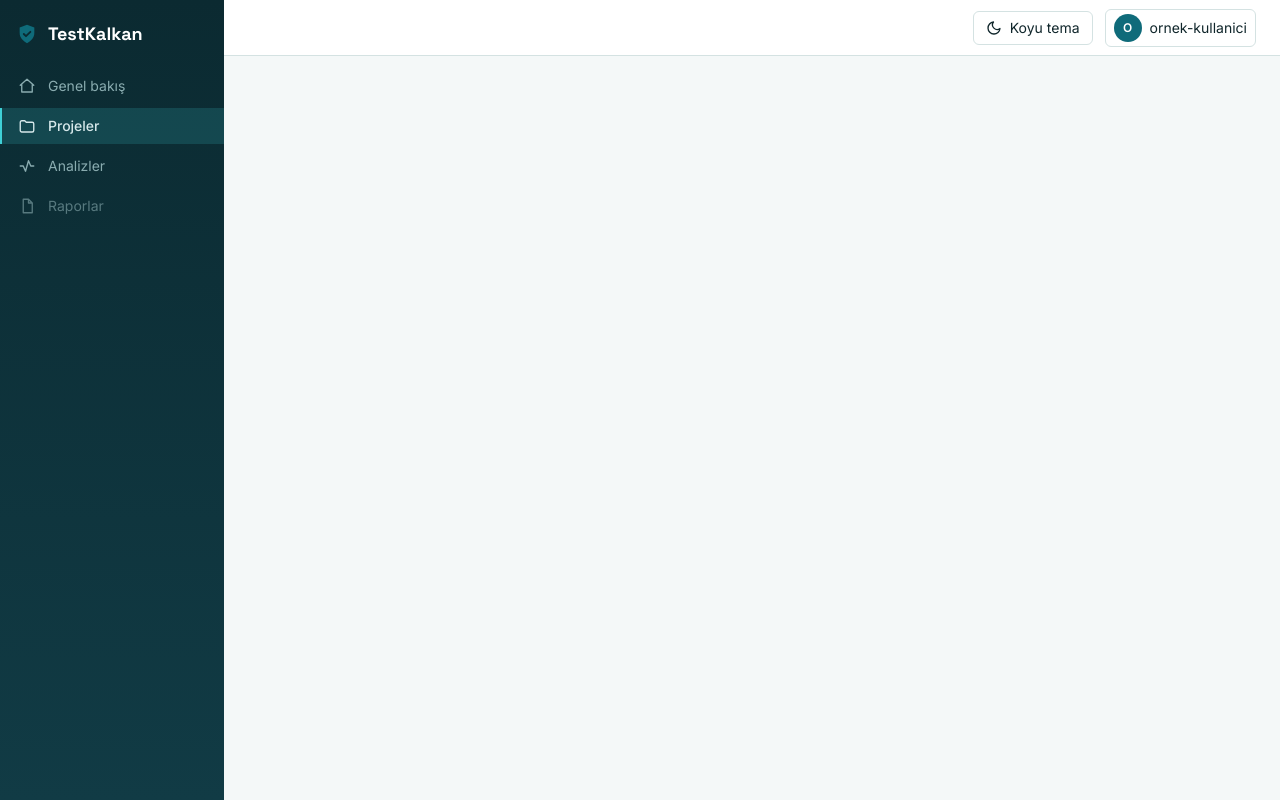
Test: kullanıcı menüsündeki Profil linki /profile açar
Click the button with aria-label "Kullanıcı menüsü". click: [1180, 28]
box: [1104,8,1256,46]
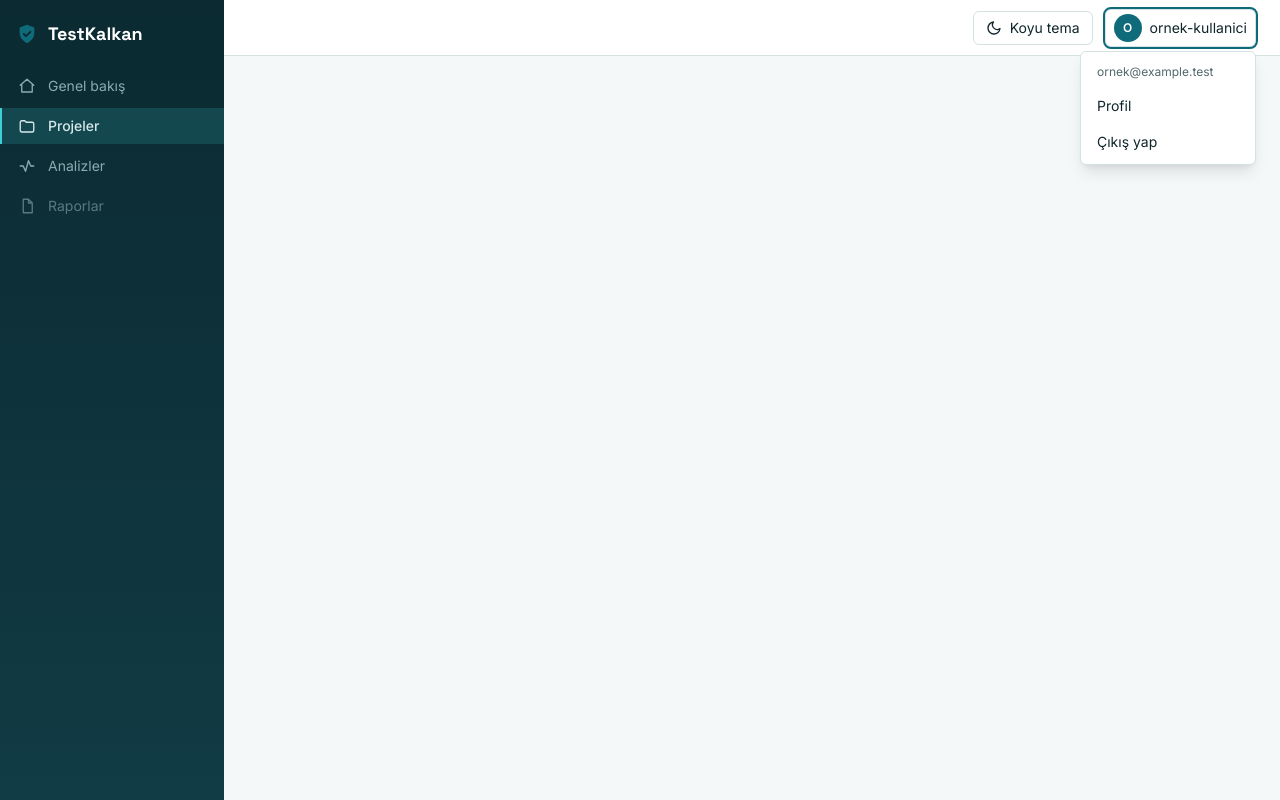
Click the menu item "Profil". click: [1114, 105]
box: [1097,96,1131,114]
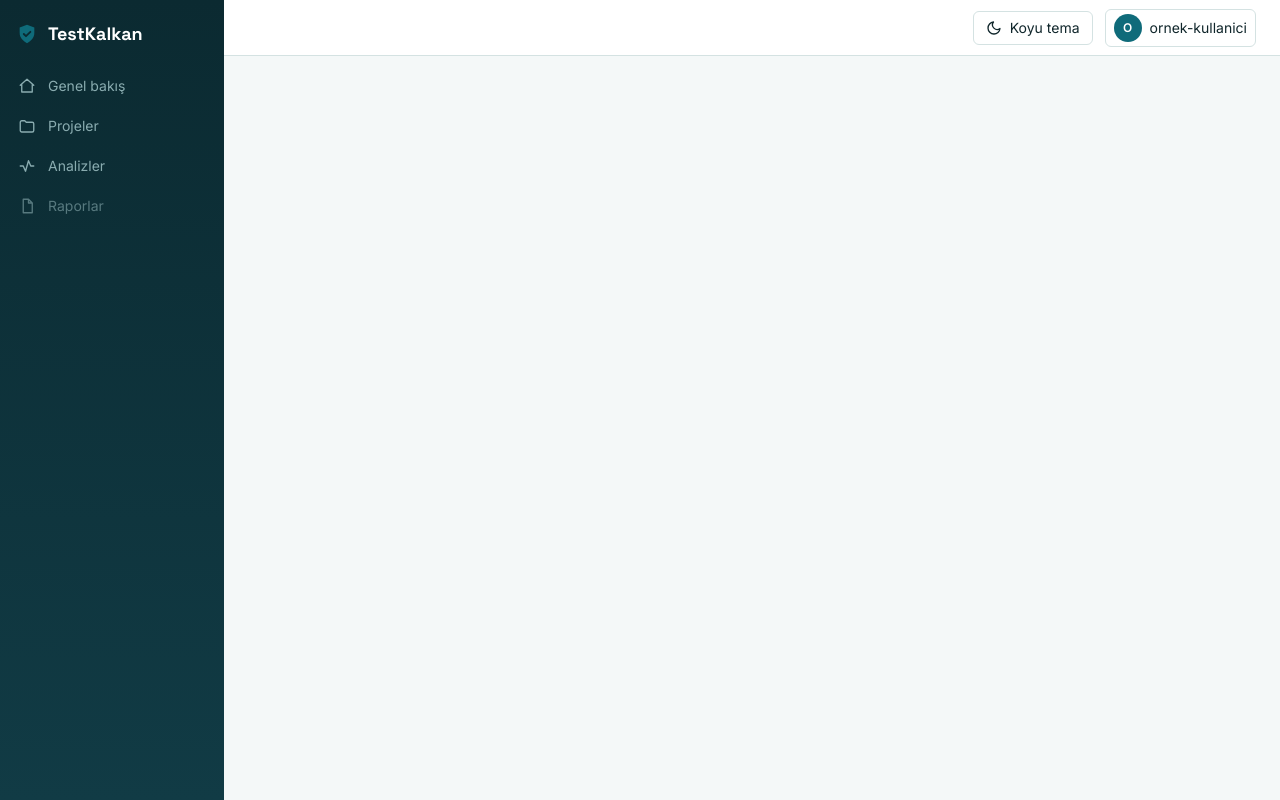
Expected: the menu is gone
